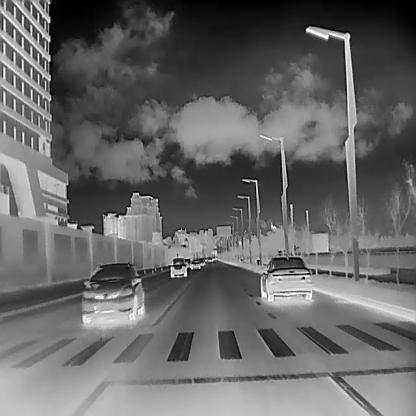car: (80, 260, 144, 323), (259, 252, 312, 301), (167, 256, 187, 276), (189, 257, 200, 268), (184, 258, 191, 268), (199, 256, 206, 265), (207, 256, 212, 261), (212, 256, 215, 259)
